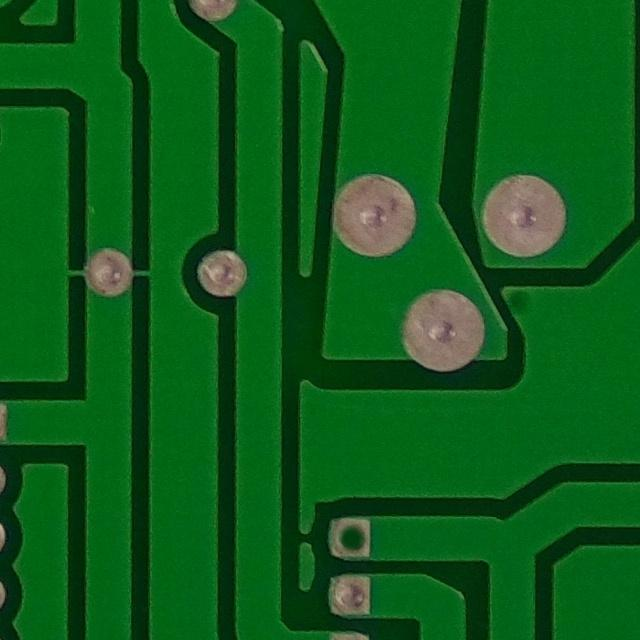missing_hole: (314, 501, 387, 570)
